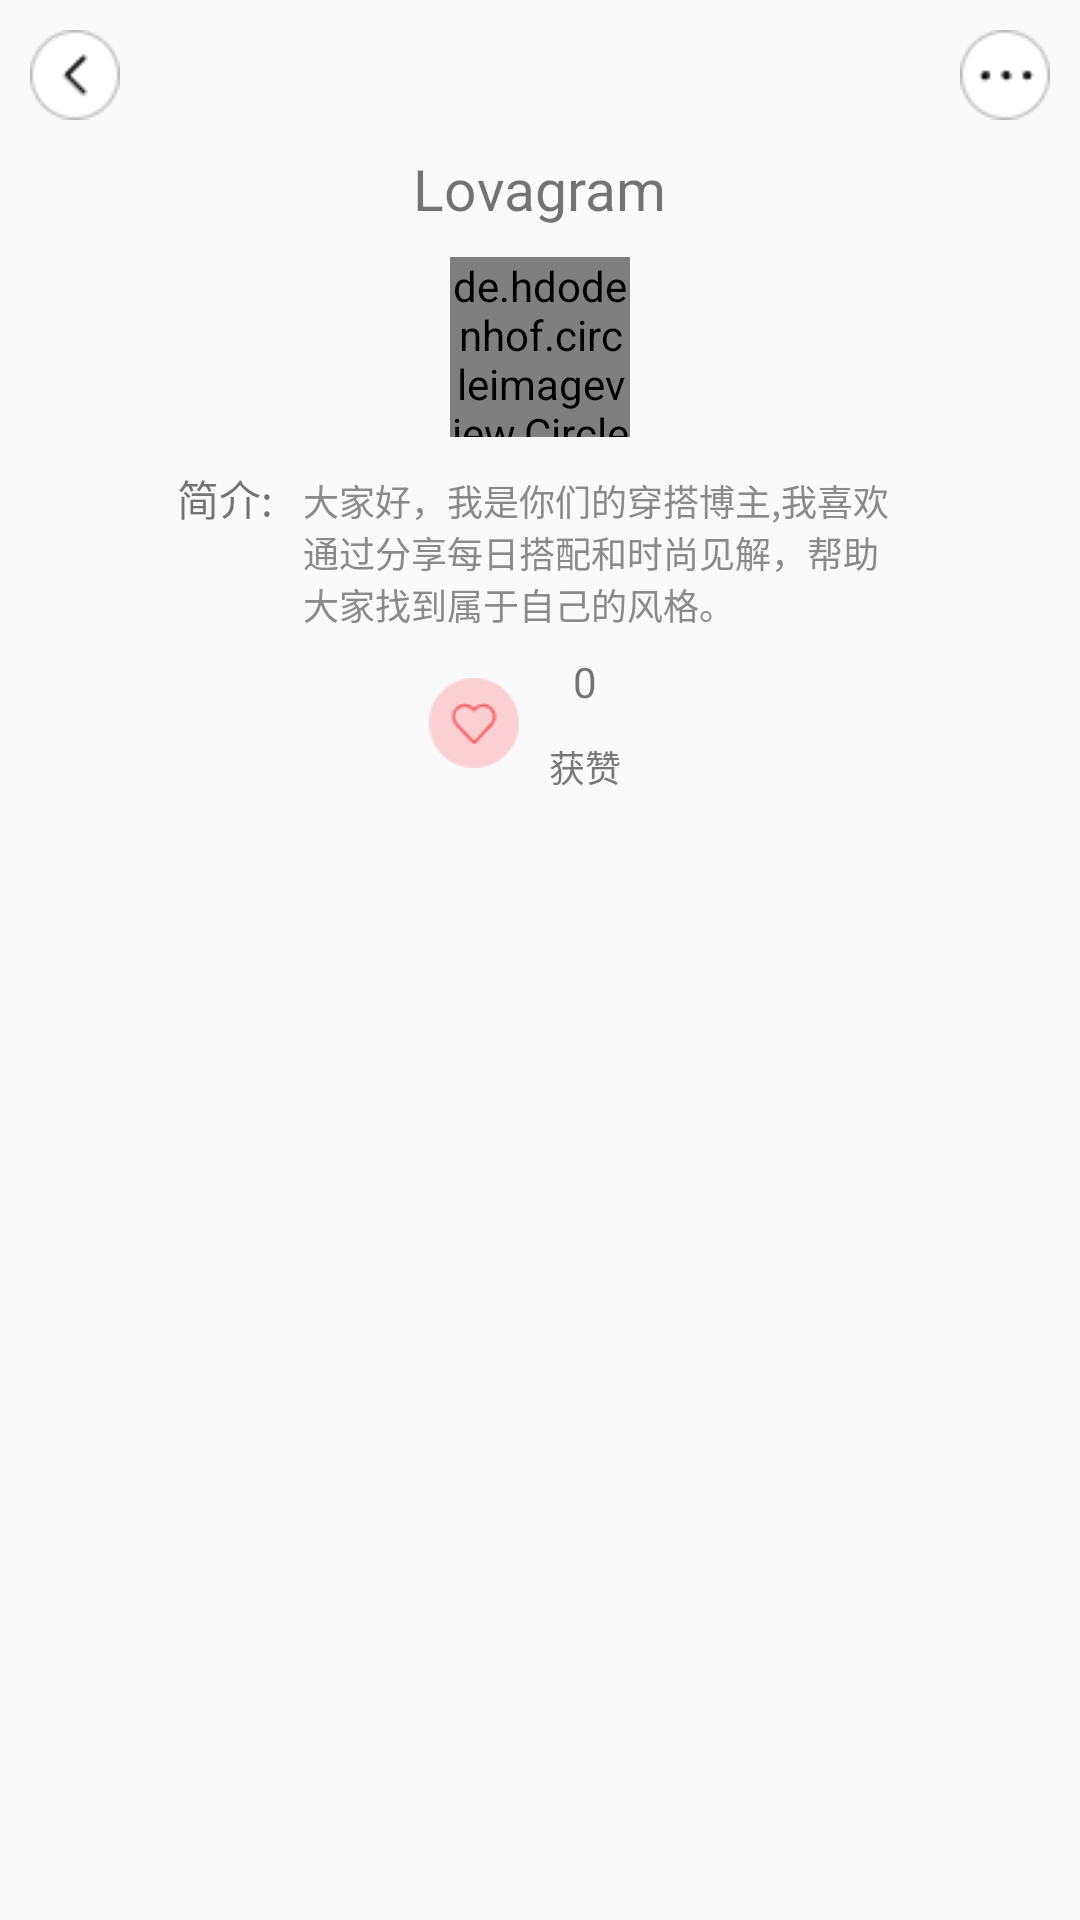

Where to tap for icons on this 1080 x 1920 app screen, as (x,y):
backbutton: (75,75)
likeimg: (474,723)
